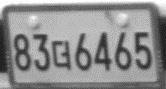3: (32, 33, 50, 70)
4: (93, 31, 113, 71)
5: (134, 31, 152, 69)
6: (74, 32, 92, 71), (114, 31, 131, 70)
8: (13, 32, 30, 71)
더: (51, 40, 71, 70)
